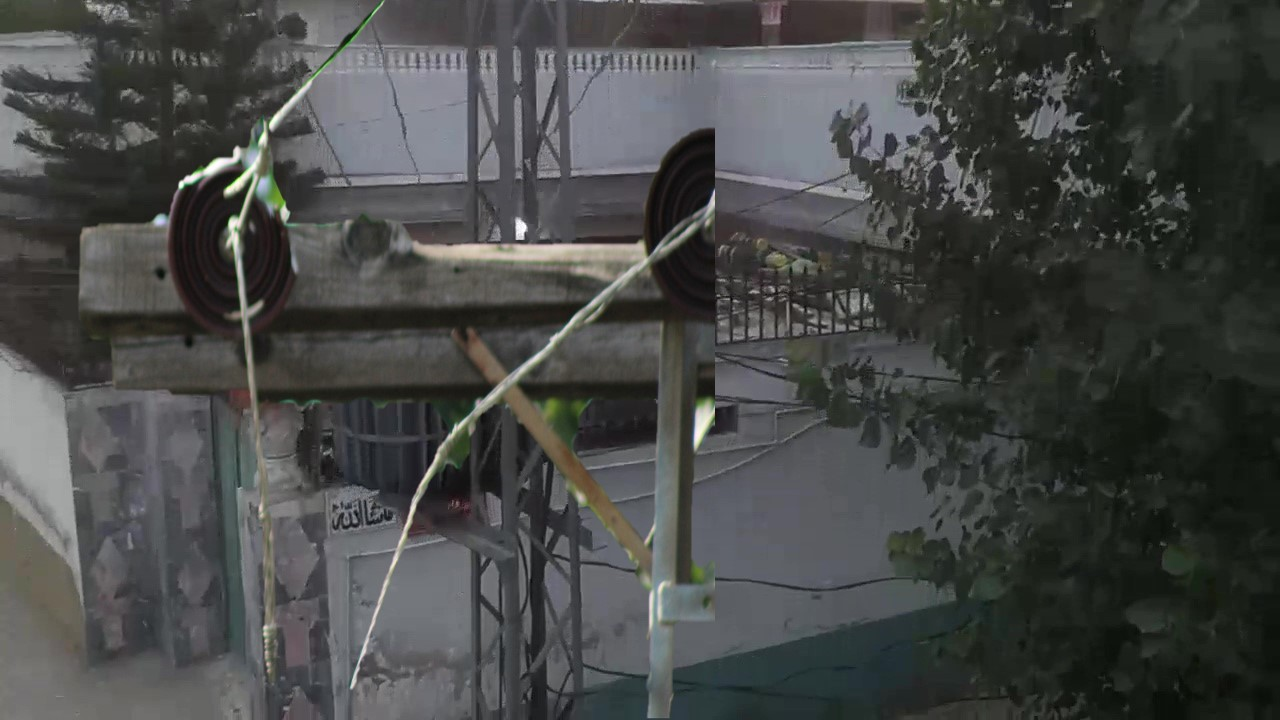defect_disc: (162, 153, 308, 357)
